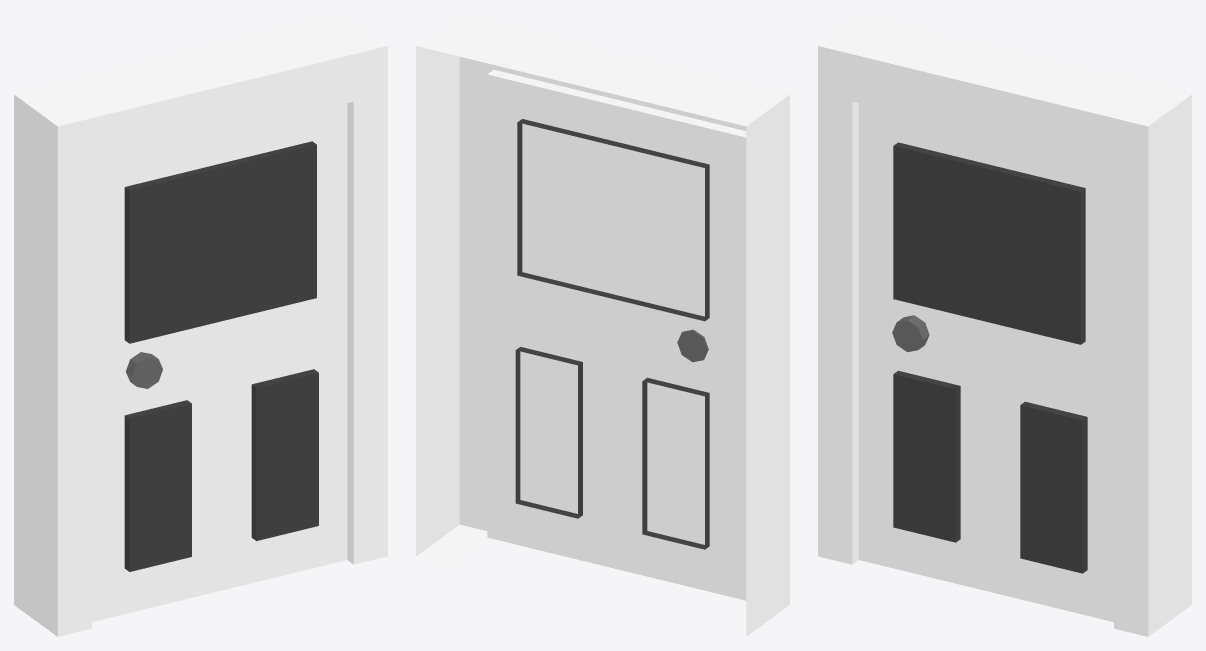
Rendered from Door.glb.
3 renders of one model, left to right at view 1: azimuth 30°, elevation 25°; view 2: azimuth 150°, elevation 25°; view 3: azimuth 330°, elevation 25°, orthographic.
Parts seen in each view (by area): view 1: Door; view 2: Door; view 3: Door.
Boxes of the visible parts, x1,y1,x2,y2 form: Door: (14,14,387,636); Door: (416,14,789,636); Door: (818,14,1191,636).
Size of the model in its own units: 0.5908 by 0.8731 by 0.1366.
Materials: 1 (1 with a texture image).
